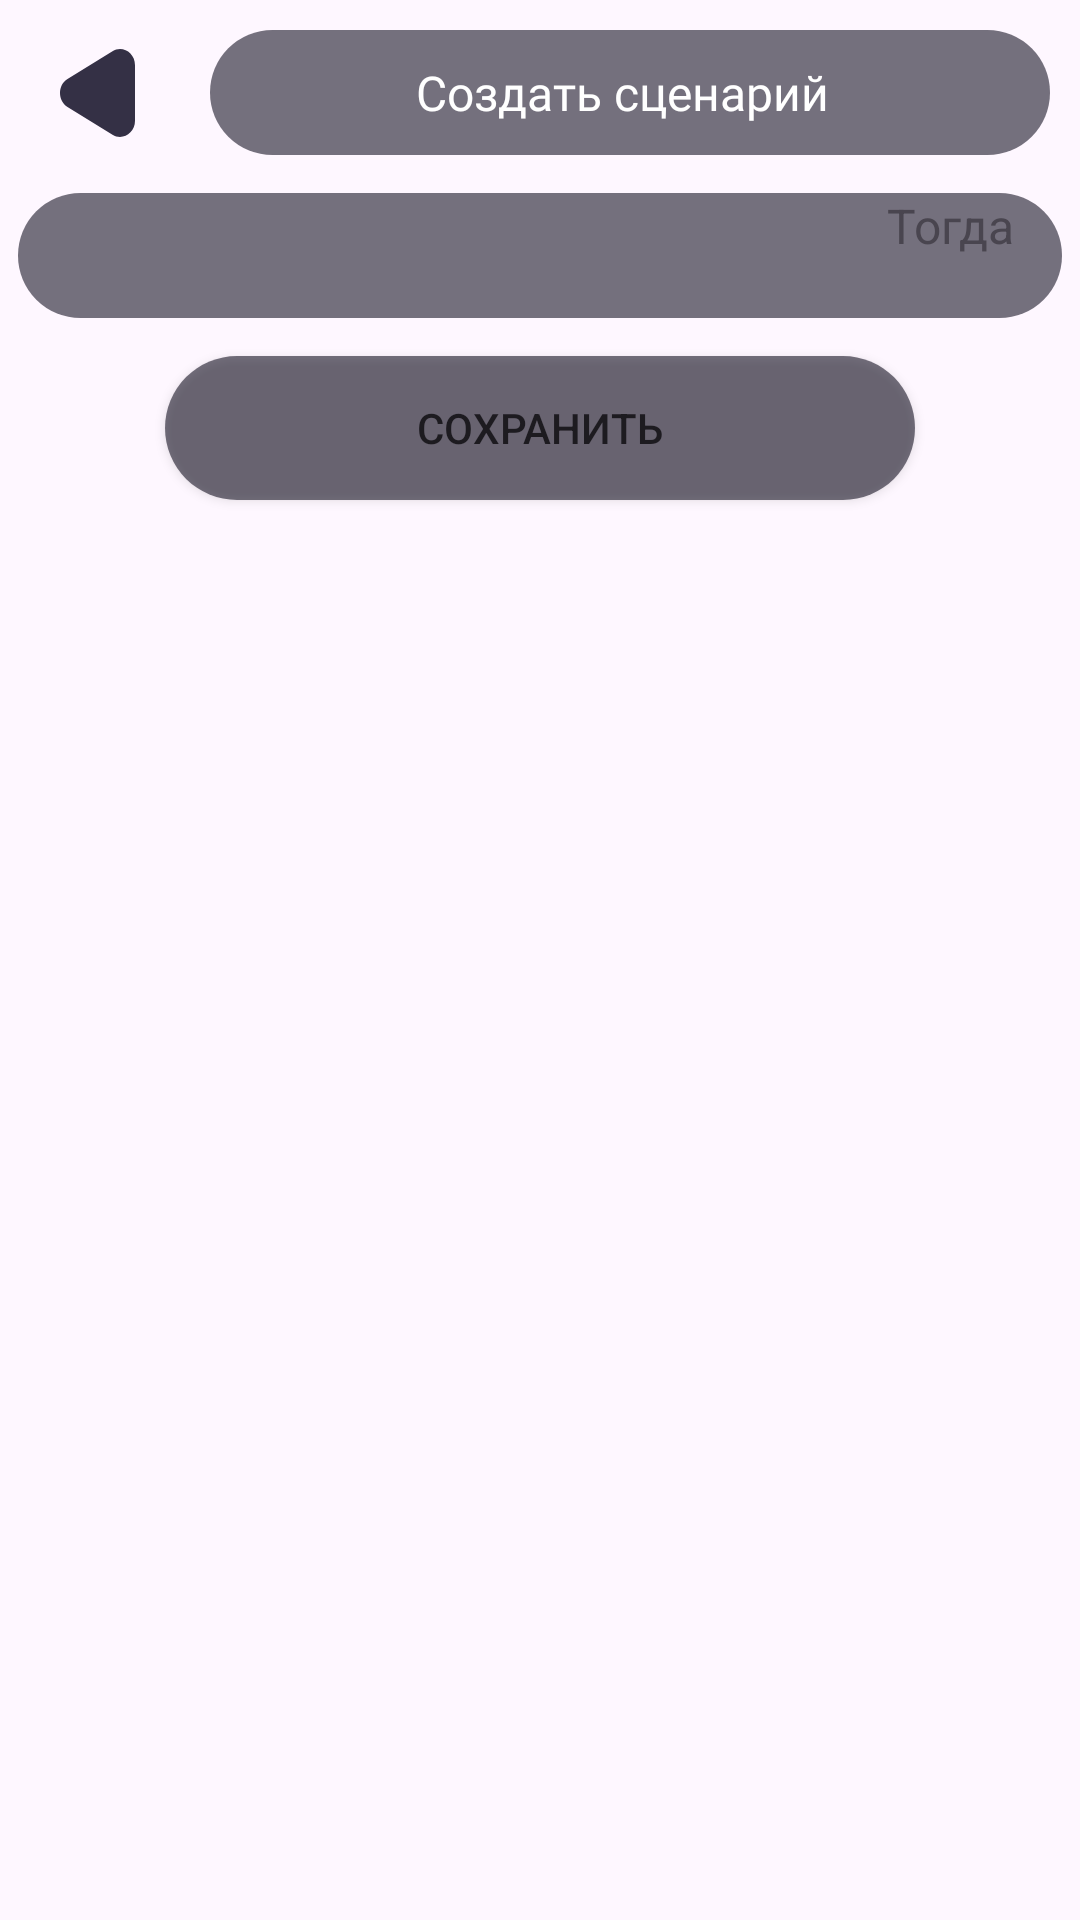

Screen size 1080 × 1920. Icon name, then its box in pixels as [x1,y1,x2,y2]:
back: [60,49,135,137]
